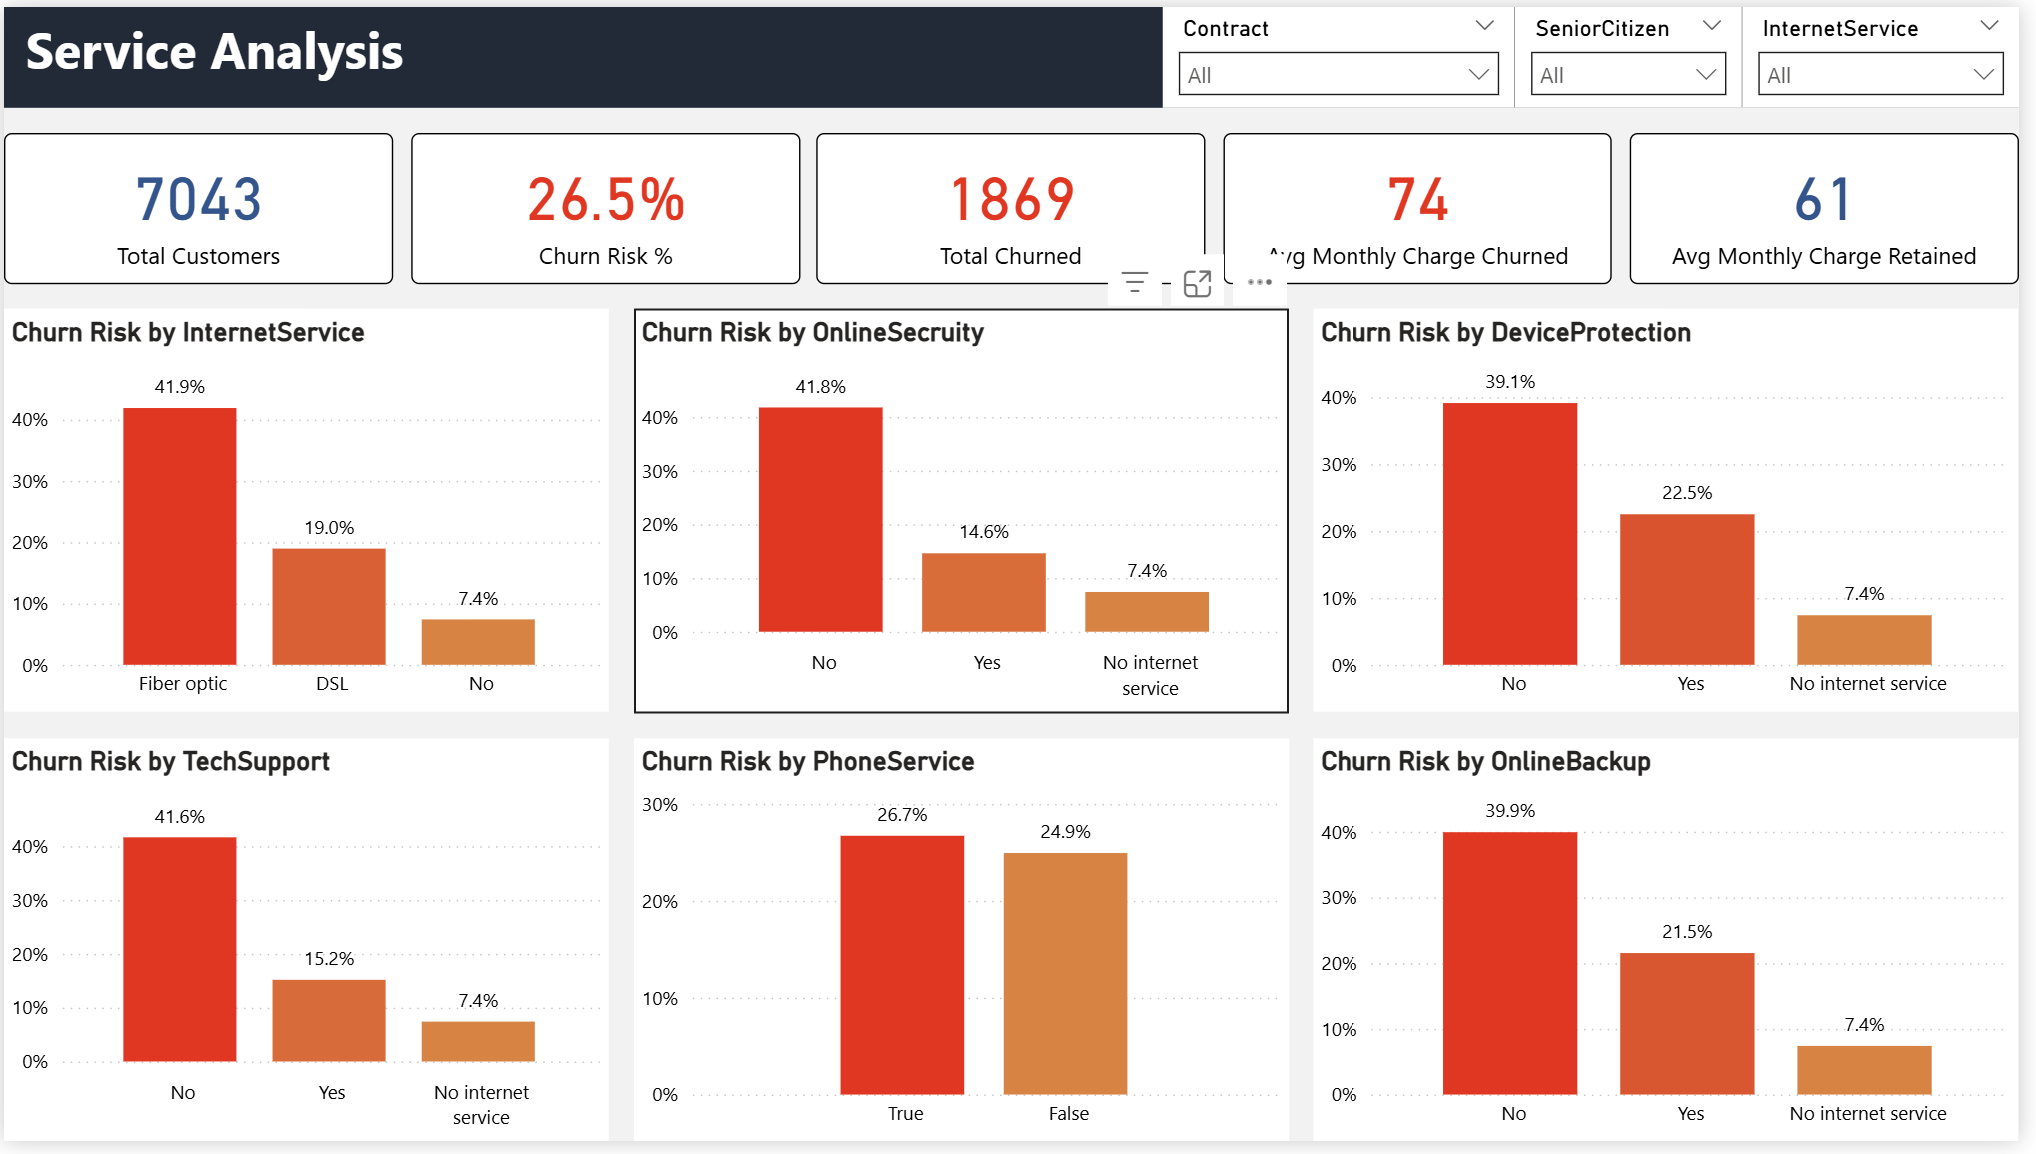

What the dashboard file says about the page in this screenshot:
{"tool":"powerbi","page":{"name":"Service Analysis","canvas":[1280,720],"ordinal":1},"visuals":[{"type":"card","fields":{"Values":["Customer.Total Customers"]},"box":[0,80,247.2,96],"z":0},{"type":"textbox","box":[0,0,1280,64],"z":1000},{"type":"card","fields":{"Values":["Customer.Churn Rate %"]},"box":[258.2,80,247.2,96],"z":2000},{"type":"card","fields":{"Values":["Customer.Total Churned"]},"box":[516.4,80,247.2,96],"z":3000},{"type":"slicer","fields":{"Values":["Customer.InternetService"]},"box":[1104,0,176,64],"z":4000},{"type":"card","fields":{"Values":["Customer.Avg Monthly Charge Churned"]},"box":[774.6,80,247.2,96],"z":5000},{"type":"slicer","fields":{"Values":["Customer.SeniorCitizen"]},"box":[960,0,144,64],"z":6000},{"type":"slicer","fields":{"Values":["Customer.Contract"]},"box":[736,0,224,64],"z":7000},{"type":"card","fields":{"Values":["Customer.Avg Monthly Charge Retained"]},"box":[1032.8,80,247.2,96],"z":8000},{"type":"clusteredColumnChart","title":"Churn Risk by InternetService","fields":{"Y":["Customer.Churn Rate %"],"Category":["Customer.InternetService"]},"box":[0,192,384,256],"z":9000},{"type":"clusteredColumnChart","title":"Churn Risk by TechSupport","fields":{"Category":["Customer.TechSupport"],"Y":["Customer.Churn Risk %"]},"box":[0,464,384,256],"z":10000},{"type":"clusteredColumnChart","title":"Churn Risk by OnlineSecruity","fields":{"Y":["Customer.Churn Rate %"],"Category":["Customer.OnlineSecurity"]},"box":[400,192,416,256],"z":11000},{"type":"clusteredColumnChart","title":"Churn Risk by PhoneService","fields":{"Y":["Customer.Churn Risk %"],"Category":["Customer.PhoneService"]},"box":[400,464,416,256],"z":12000},{"type":"clusteredColumnChart","title":"Churn Risk by DeviceProtection","fields":{"Y":["Customer.Churn Rate %"],"Category":["Customer.DeviceProtection"]},"box":[832,192,448,256],"z":13000},{"type":"clusteredColumnChart","title":"Churn Risk by OnlineBackup","fields":{"Y":["Customer.Churn Rate %"],"Category":["Customer.OnlineBackup"]},"box":[832,464,448,256],"z":14000}]}

Visuals, with their boxes in screenshot pixels (x1, y1, x2, y2), scaled from the page's 1280x720 canvas onto the 2036x1154 screenshot:
card - Customer.Total Customers: 0 128 393 282
textbox: 0 0 2035 103
card - Customer.Churn Rate %: 411 128 804 282
card - Customer.Total Churned: 821 128 1215 282
slicer - Customer.InternetService: 1756 0 2035 103
card - Customer.Avg Monthly Charge Churned: 1232 128 1625 282
slicer - Customer.SeniorCitizen: 1527 0 1756 103
slicer - Customer.Contract: 1171 0 1527 103
card - Customer.Avg Monthly Charge Retained: 1643 128 2035 282
"Churn Risk by InternetService" clusteredColumnChart: 0 308 611 718
"Churn Risk by TechSupport" clusteredColumnChart: 0 744 611 1153
"Churn Risk by OnlineSecruity" clusteredColumnChart: 636 308 1298 718
"Churn Risk by PhoneService" clusteredColumnChart: 636 744 1298 1153
"Churn Risk by DeviceProtection" clusteredColumnChart: 1323 308 2035 718
"Churn Risk by OnlineBackup" clusteredColumnChart: 1323 744 2035 1153
